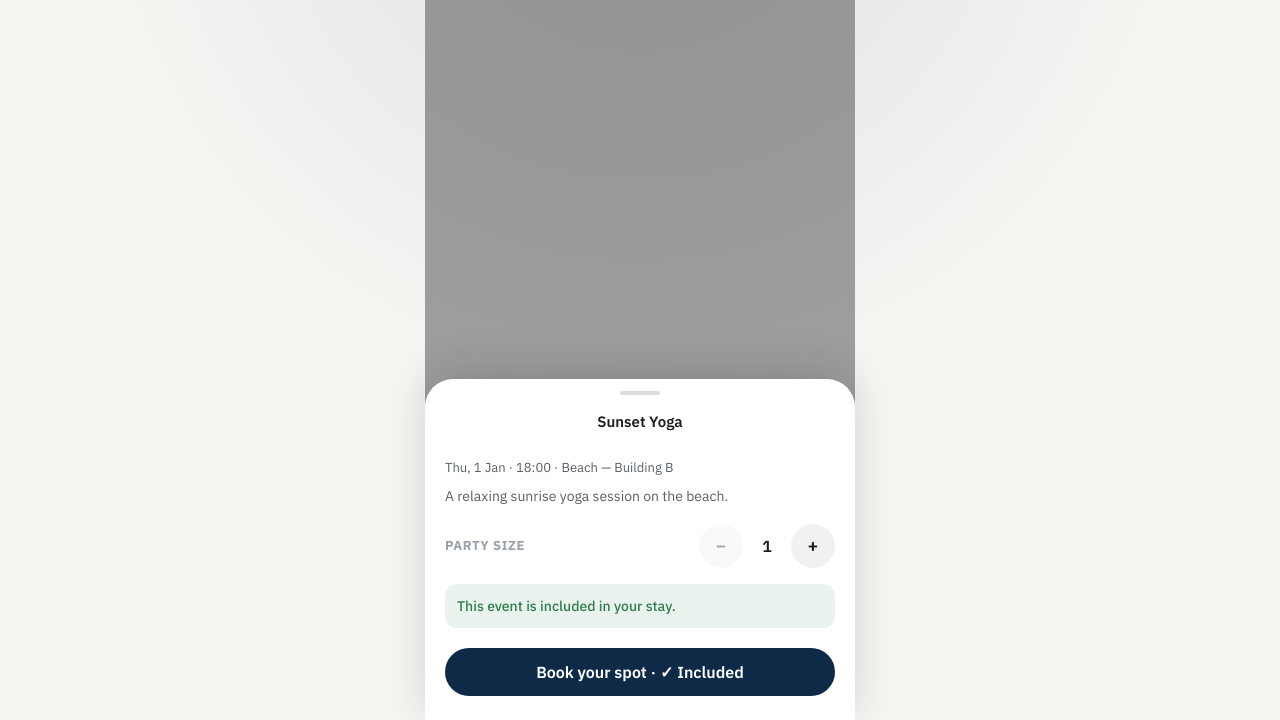
Test case: EventBookingSheet (21.4) › a fully-included booking omits paymentMethod from the request body
Click the button with test id "book-event" at {"x": 640, "y": 672}, box [445, 648, 835, 696]
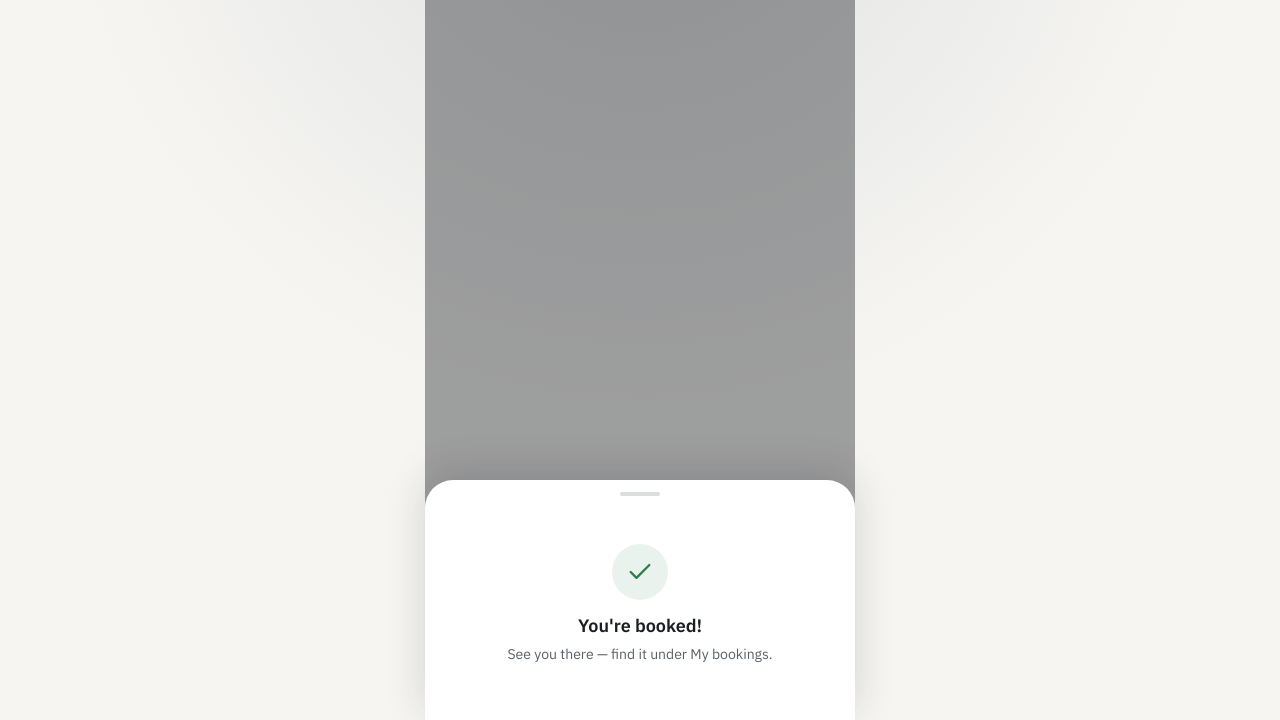
expect the text "You're booked!" is shown: met, box [578, 612, 702, 640]
